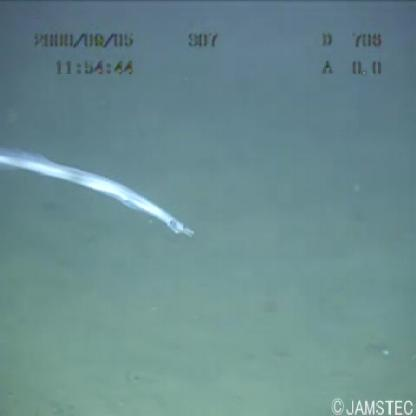Bio: (1, 144, 201, 245)
